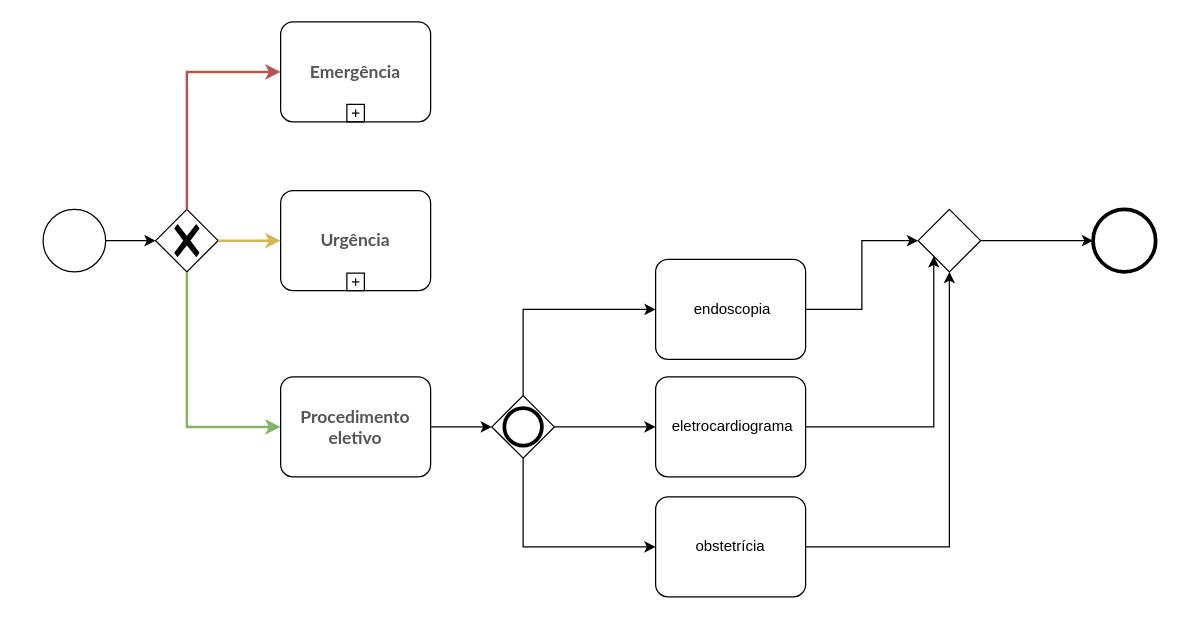
Image size: 1178x619. Some labels were removed from this diagram. Here are the shapes that lost their labels. From the top down, the box of each, then its label:
(42, 208, 106, 272): tipo de paciente
(1092, 208, 1156, 272): FIM
